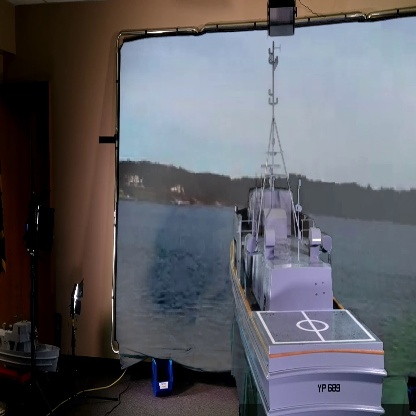YP689: (228, 41, 390, 416)
